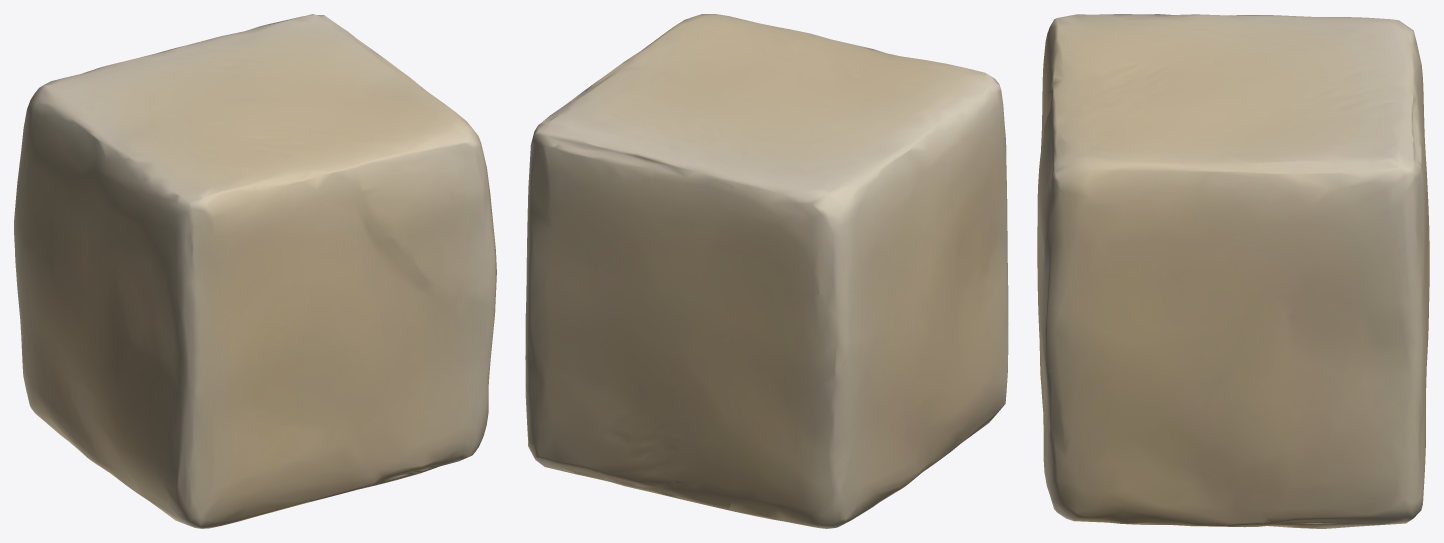
The model's file is shell+meat+cube.obj.
3 views of the same model, side by side, from view 1: azimuth 30°, elevation 25°; view 2: azimuth 150°, elevation 25°; view 3: azimuth 270°, elevation 25° (orthographic). The views are drawn at different scales.
Visible parts, largest first — view 1: meshes[0]; view 2: meshes[0]; view 3: meshes[0].
Boxes of the visible parts, x1,y1,x2,y2 form: meshes[0]: (14,14,496,528); meshes[0]: (525,14,1008,528); meshes[0]: (1037,14,1429,528).
Bounding box in the file's own units: 1 × 0.9863 × 0.9514.
1 material, 1 textured.
